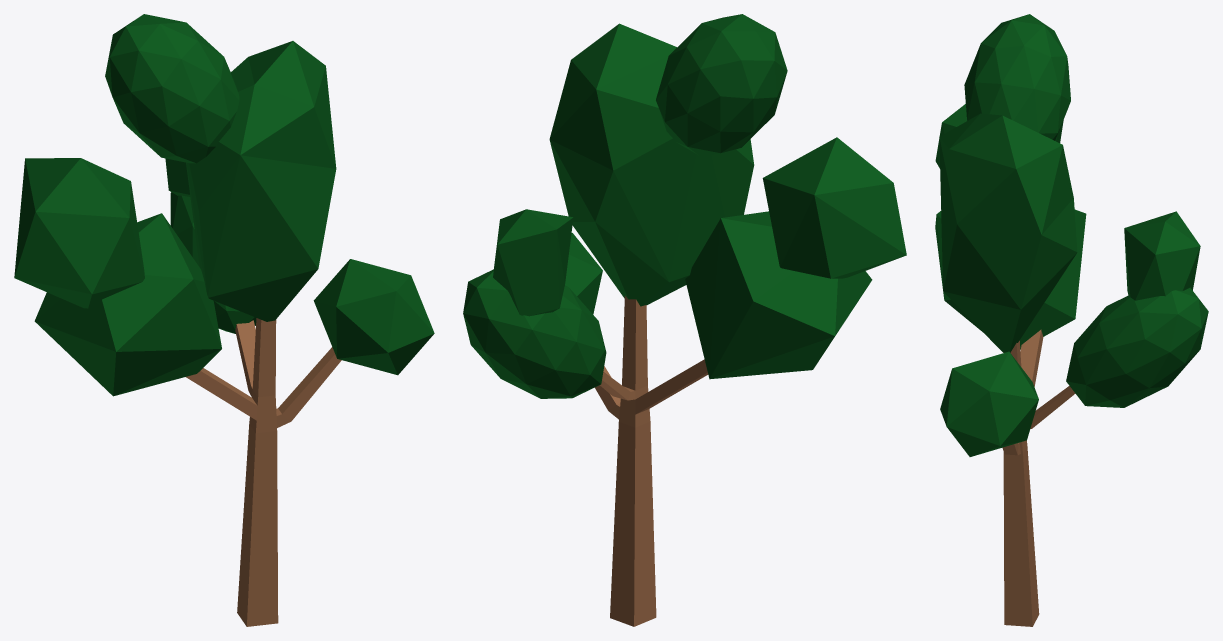
Rendered from Tree_3.glb.
The picture shows the model from 3 angles, left to right: view 1: azimuth 30°, elevation 25°; view 2: azimuth 150°, elevation 25°; view 3: azimuth 270°, elevation 25°; orthographic projection. The views are drawn at different scales.
Visible parts, largest first — view 1: Tree 3; view 2: Tree 3; view 3: Tree 3.
Part boxes in pixels (left/top/right/bottom): Tree 3: left=14, top=14, right=434, bottom=626; Tree 3: left=463, top=14, right=906, bottom=626; Tree 3: left=935, top=14, right=1208, bottom=626.
Bounding box in the file's own units: 1.17 × 1.74 × 0.7756.
